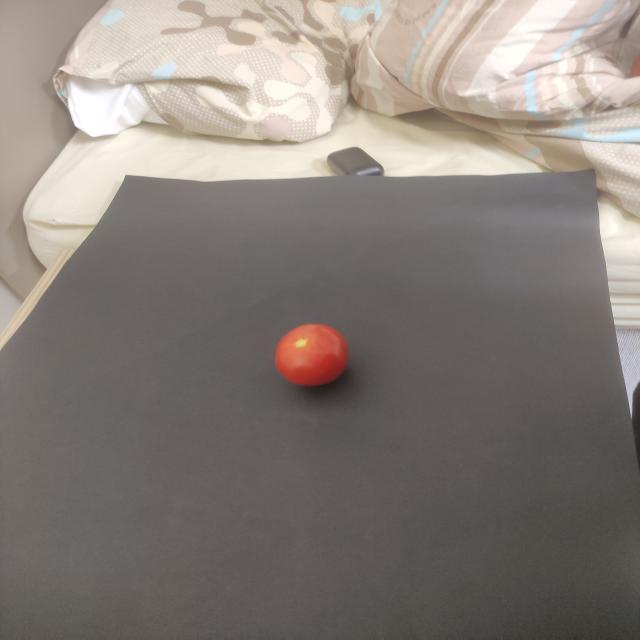kirmizi: (240, 311, 380, 403)
